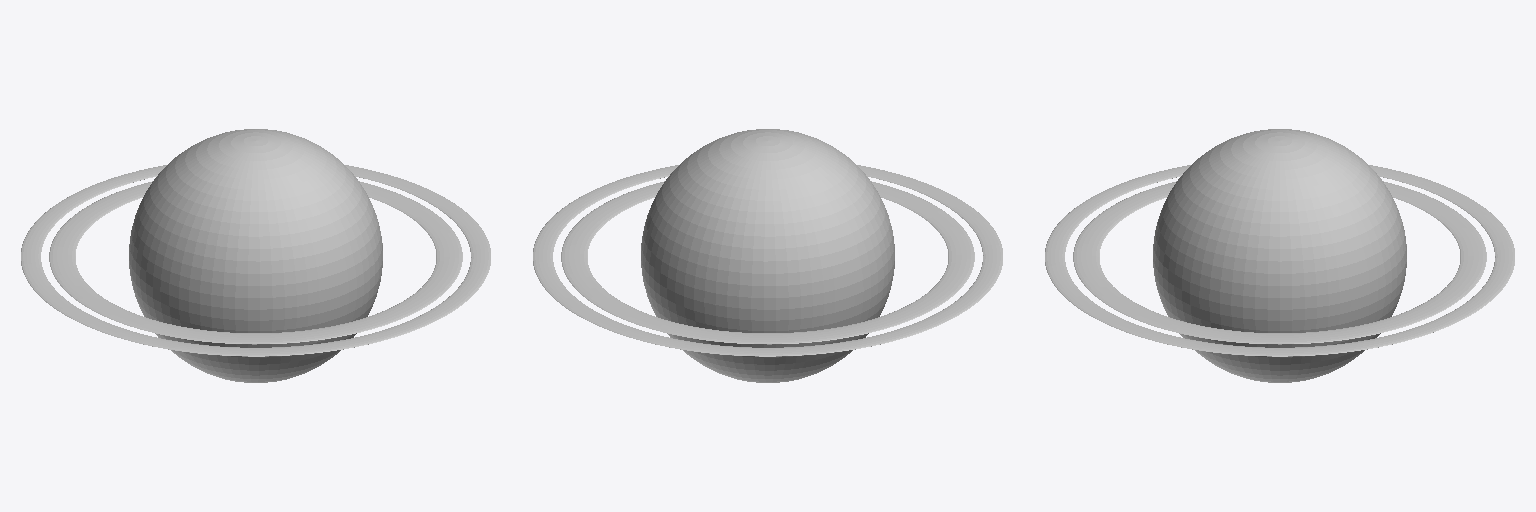
Rendered from planet_6.obj.
3 views of the same model, side by side, from view 1: azimuth 30°, elevation 25°; view 2: azimuth 150°, elevation 25°; view 3: azimuth 270°, elevation 25° (orthographic).
Visible parts, largest first — view 1: Circle; view 2: Circle; view 3: Circle.
Part boxes in pixels (x1,y1,x2,y2): Circle: (21, 129, 490, 382); Circle: (533, 129, 1002, 382); Circle: (1045, 129, 1514, 382).
Size of the model in its own units: 11.11 by 6 by 11.11.